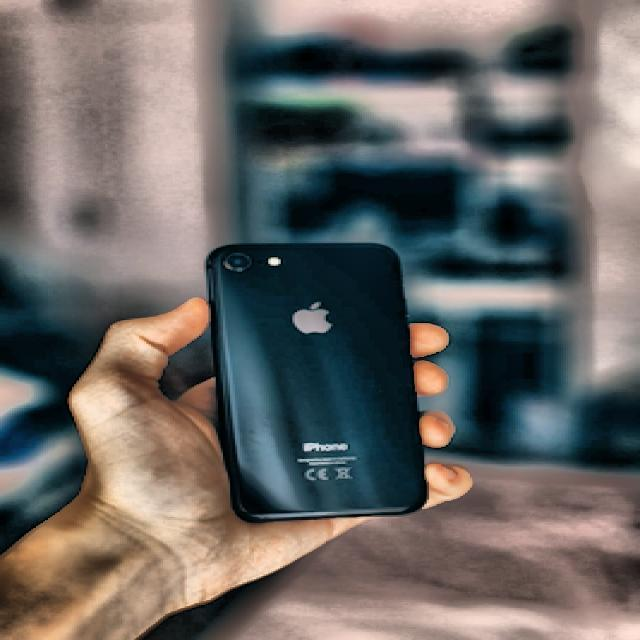Phone: (204, 242, 429, 521)
